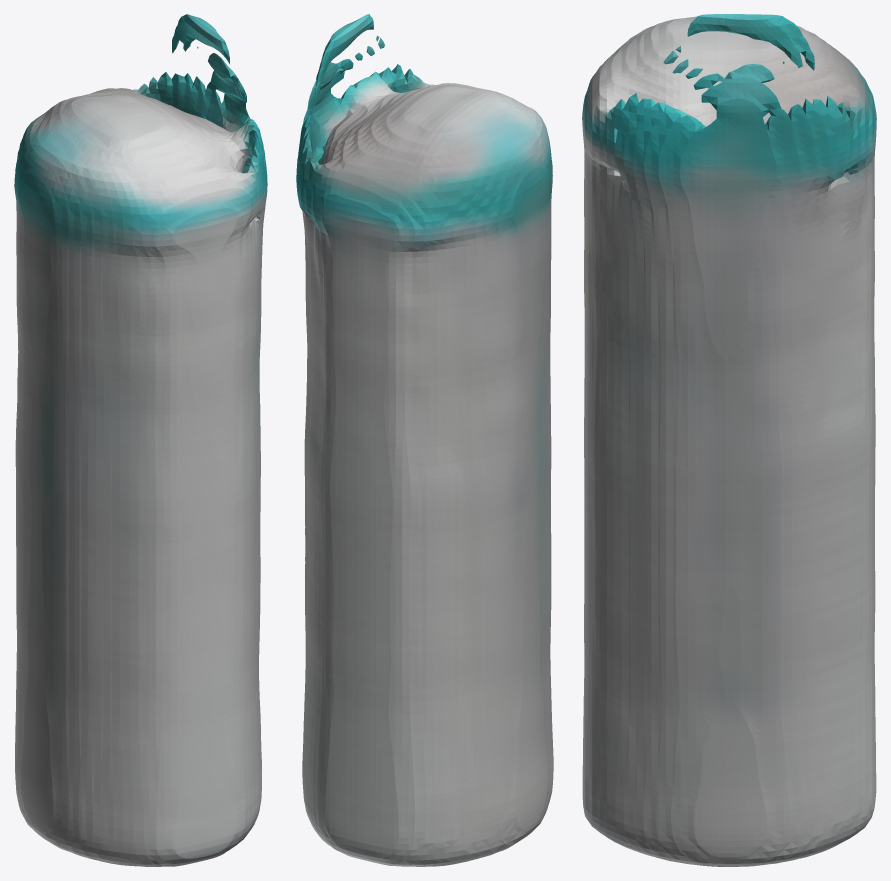
3 renders of one model, left to right at view 1: azimuth 30°, elevation 25°; view 2: azimuth 150°, elevation 25°; view 3: azimuth 270°, elevation 25°, orthographic. The views are drawn at different scales.
Visible parts, largest first — view 1: tmpav9oejte.ply; view 2: tmpav9oejte.ply; view 3: tmpav9oejte.ply.
Boxes of the visible parts, left/top/right/bottom form: tmpav9oejte.ply: left=14, top=14, right=267, bottom=866; tmpav9oejte.ply: left=296, top=14, right=553, bottom=866; tmpav9oejte.ply: left=582, top=14, right=876, bottom=866.
Bounding box in the file's own units: 0.5588 × 1.98 × 0.6204.
